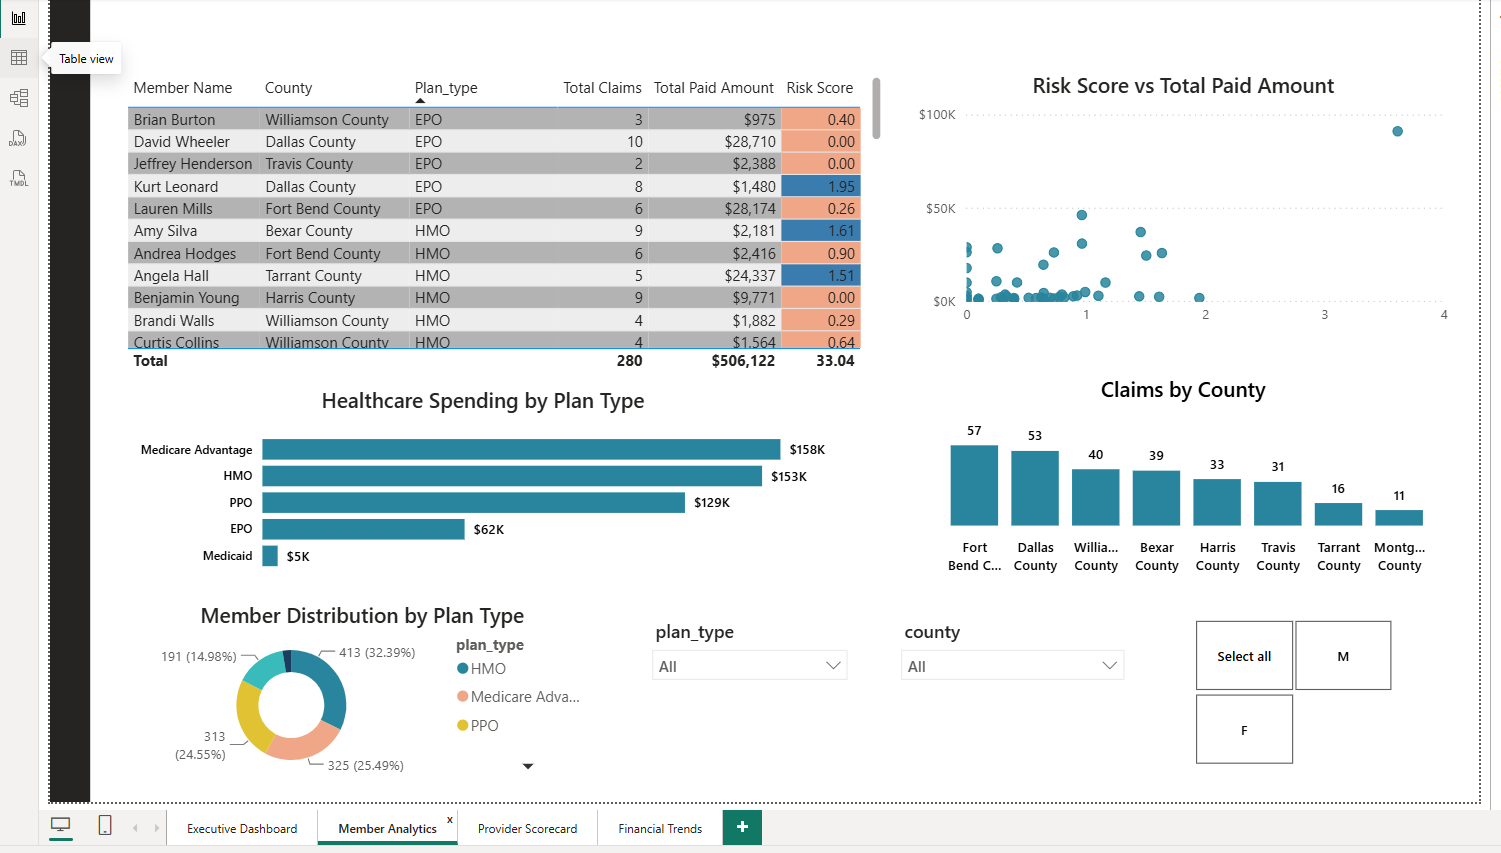

Layout of this report page (visuals, bound fields, positions):
{"tool":"powerbi","page":{"name":"Member Analytics","canvas":[1280,720],"ordinal":1},"visuals":[{"type":"textbox","box":[0,0,36,720.1],"z":0},{"type":"tableEx","fields":{"Values":["vw_MemberAnalytics.member_name","vw_MemberAnalytics.county","vw_MemberAnalytics.plan_type","Sum(vw_MemberAnalytics.TotalClaims)","Sum(vw_MemberAnalytics.TotalPaidAmount)","Sum(vw_MemberAnalytics.RiskScore)"]},"box":[63.9,65,686.5,273],"z":1000},{"type":"clusteredBarChart","title":"Healthcare Spending by Plan Type","fields":{"Category":["vw_MemberAnalytics.plan_type"],"Y":["Sum(vw_MemberAnalytics.TotalPaidAmount)"]},"box":[75.5,347.3,624.9,176.6],"z":2000},{"type":"clusteredColumnChart","title":"Claims by County","fields":{"Category":["vw_MemberAnalytics.county"],"Y":["Sum(vw_MemberAnalytics.TotalClaims)"]},"box":[772.4,338,484.4,185.8],"z":3000},{"type":"scatterChart","title":"Risk Score vs Total Paid Amount","fields":{"Category":["vw_MemberAnalytics.member_id"],"X":["Sum(vw_MemberAnalytics.RiskScore)"],"Y":["Sum(vw_MemberAnalytics.TotalPaidAmount)"]},"box":[772.4,65,484.4,235.8],"z":4000},{"type":"slicer","fields":{"Values":["vw_MemberAnalytics.county"]},"box":[752.7,550.6,219.5,141.7],"z":5000},{"type":"slicer","fields":{"Values":["vw_MemberAnalytics.plan_type"]},"box":[529.7,550.6,195.1,141.7],"z":6000},{"type":"slicer","fields":{"Values":["vw_MemberAnalytics.gender"]},"box":[1000.1,550.6,225.3,141.7],"z":7000},{"type":"donutChart","title":"Member Distribution by Plan Type","fields":{"Category":["vw_MemberAnalytics.plan_type"],"Y":["Sum(vw_MemberAnalytics.member_id)"]},"box":[63.9,540.1,432.1,161.5],"z":8000}]}

Visuals, with their boxes on the page's 1280x720 design canvas (x1, y1, x2, y2). These are canvas units, not pixel positions in the 1501x853 screenshot, which may show the page scaled, cropped or inside an application window:
textbox: bbox(0, 0, 36, 720)
tableEx - vw_MemberAnalytics.member_name x vw_MemberAnalytics.county: bbox(64, 65, 750, 338)
"Healthcare Spending by Plan Type" clusteredBarChart: bbox(76, 347, 700, 524)
"Claims by County" clusteredColumnChart: bbox(772, 338, 1257, 524)
"Risk Score vs Total Paid Amount" scatterChart: bbox(772, 65, 1257, 301)
slicer - vw_MemberAnalytics.county: bbox(753, 551, 972, 692)
slicer - vw_MemberAnalytics.plan_type: bbox(530, 551, 725, 692)
slicer - vw_MemberAnalytics.gender: bbox(1000, 551, 1225, 692)
"Member Distribution by Plan Type" donutChart: bbox(64, 540, 496, 702)
